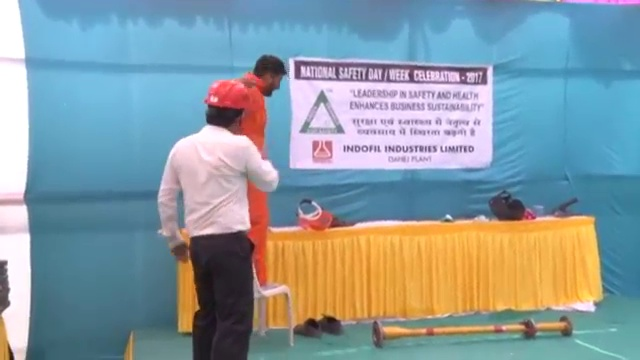helmet: (202, 77, 251, 110)
helmet_off: (252, 53, 287, 100)
helmet_on: (202, 77, 253, 132)
person: (155, 75, 270, 360), (232, 55, 285, 289)
